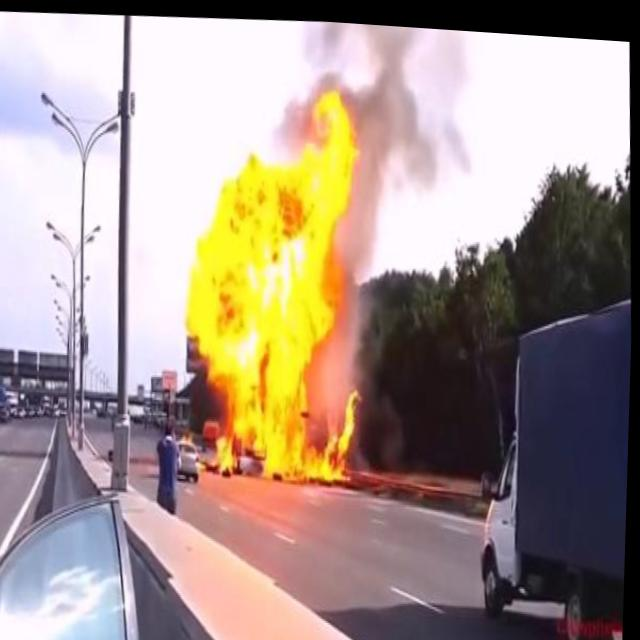fire: (171, 56, 382, 487)
